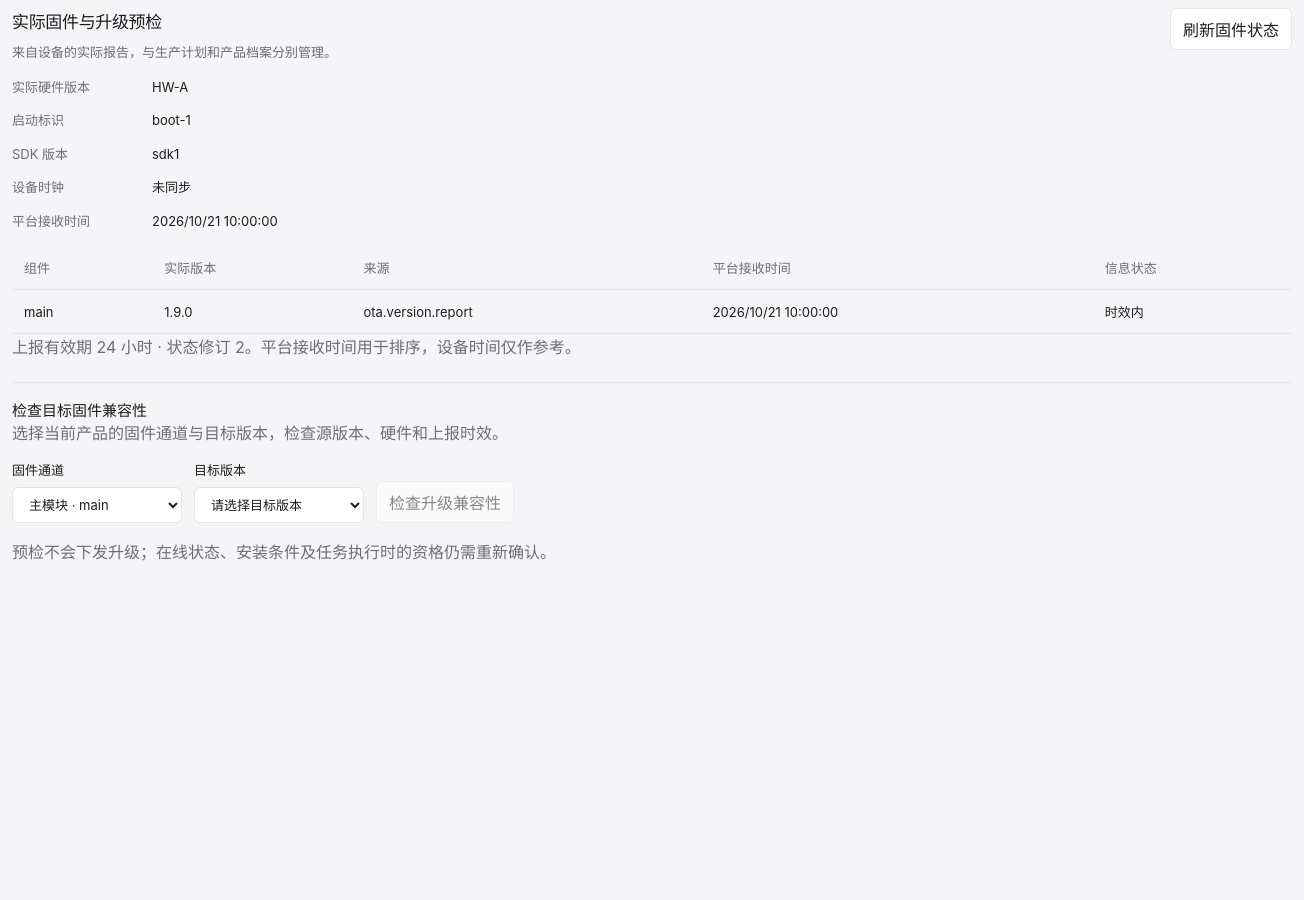
Test: shows actual reports and checks an explicitly selected target using the device scope
The image size is (1304, 900).
Select "1.10.0 · 可用" in the dropdown named "预检目标版本" at (279, 505), box 194,487 -> 364,523
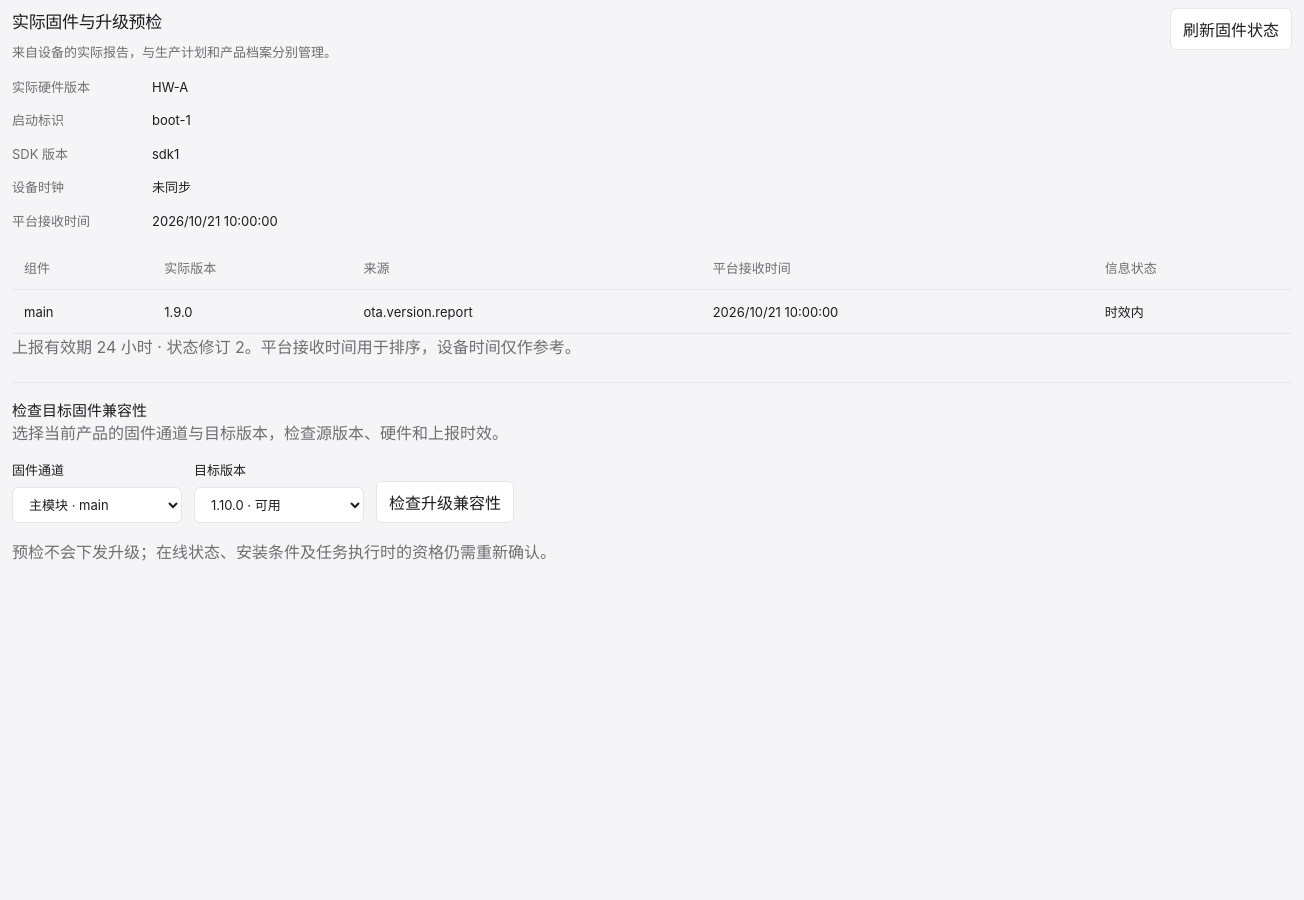
Click the button "检查升级兼容性" at (445, 502), box 376,481 -> 514,523
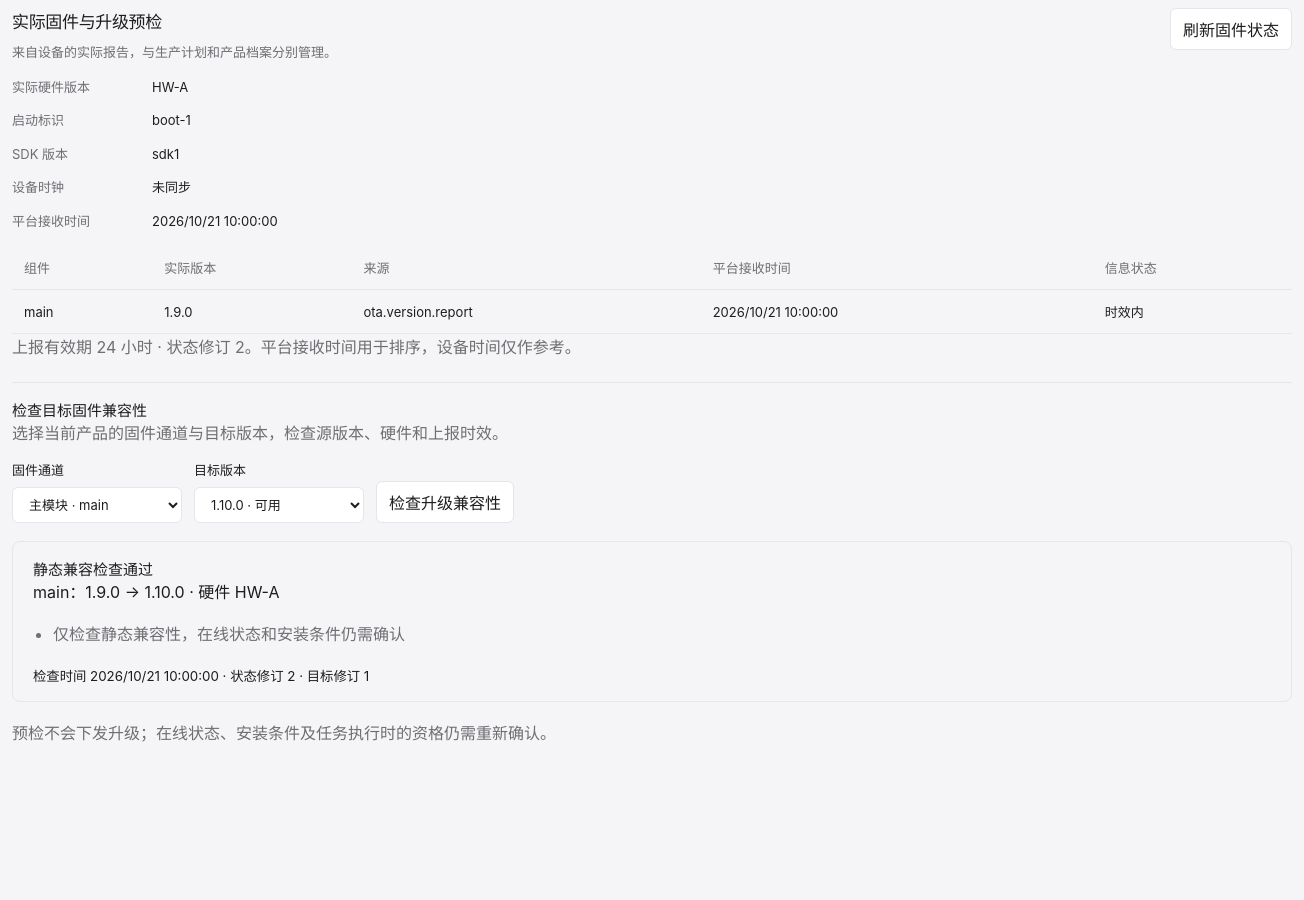
Now the text "静态兼容检查通过" is shown, box 33,560 -> 153,579
Now the text "在线状态和安装条件仍需确认" is shown, box 53,624 -> 405,644
